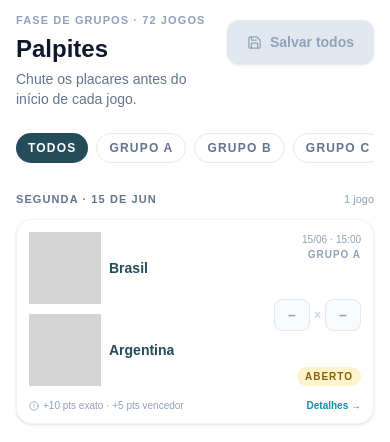
PalpitesPage › "Salvar todos" is enabled when no prediction saved and both inputs are filled
Type "1" into the number field with test id "input-home-m1" at x=292, y=314, box [274,298,310,330]
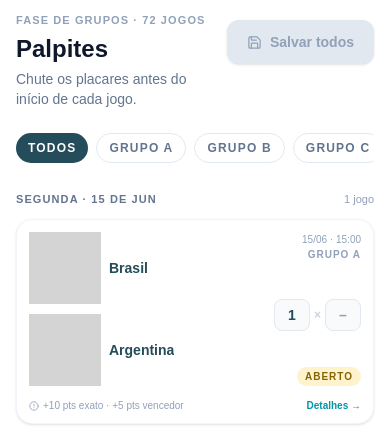
Type "0" into the number field with test id "input-away-m1" at x=343, y=314, box [325,298,361,330]
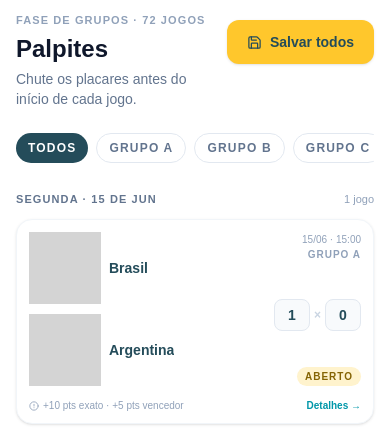
expect the button with test id "save-all-btn" is enabled: met, box [227,20,374,64]
